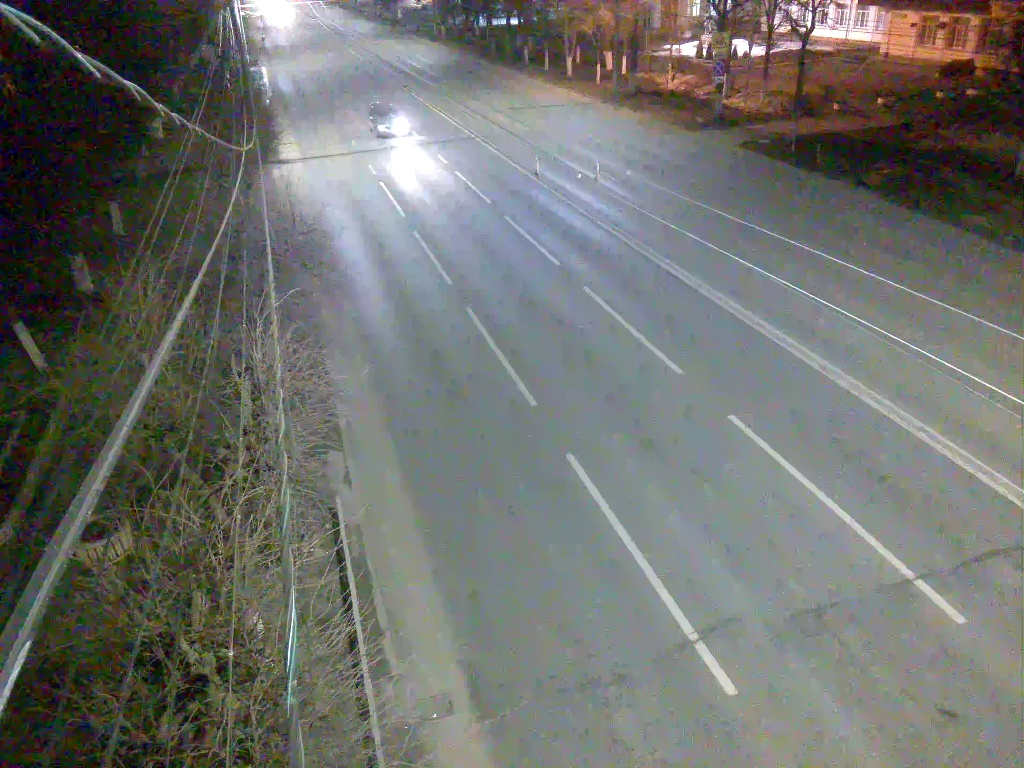car: (365, 88, 424, 146)
